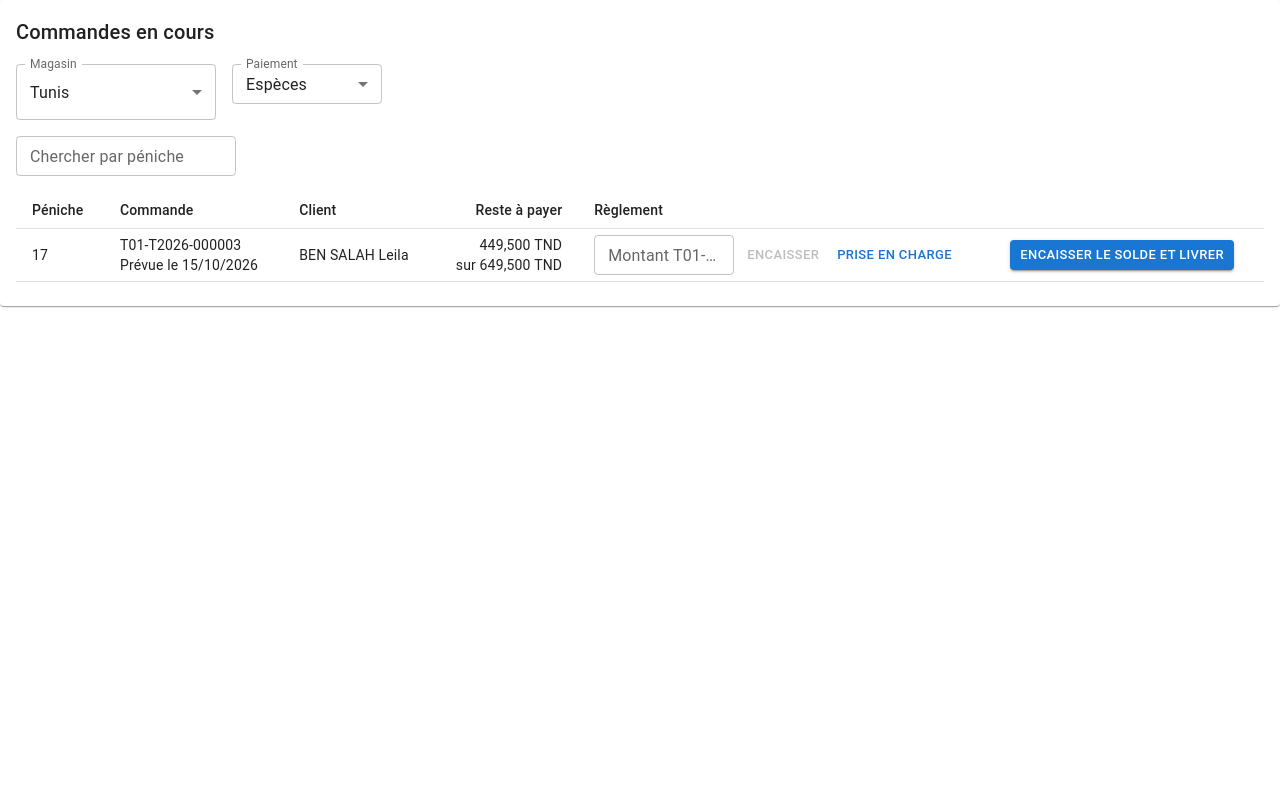
Test: saisit la part prise en charge par la CNAM sur une commande
Click the button "Prise en charge".
click(894, 255)  # box [832, 235, 957, 275]
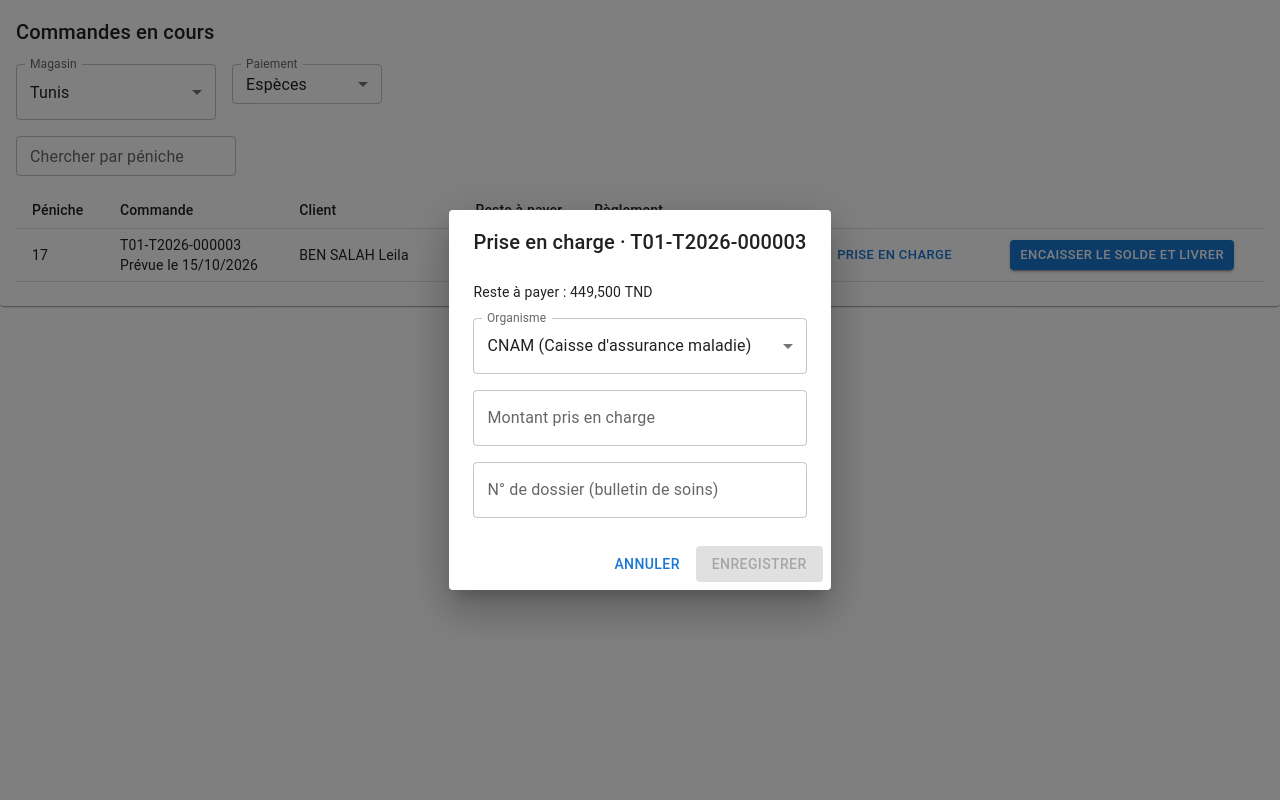
expect the dropdown "CNAM (Caisse d'assurance maladie)" is shown: met, box [487, 336, 751, 355]
Type "150" into the number field labelled "Montant pris en charge".
click(640, 418); type("150")  # box [473, 390, 806, 446]
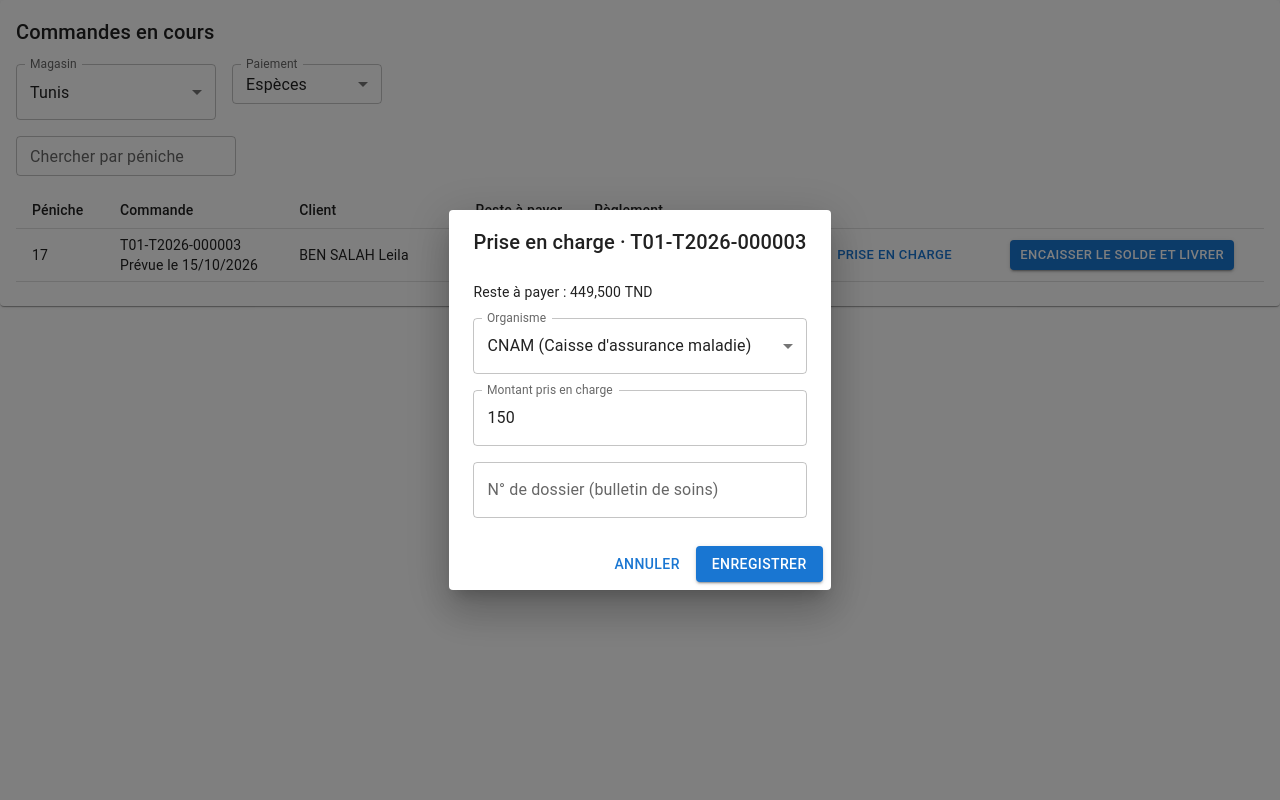
Type "BS-118" into the field labelled "N° de dossier (bulletin de soins)".
click(640, 490); type("BS-118")  # box [473, 462, 806, 518]
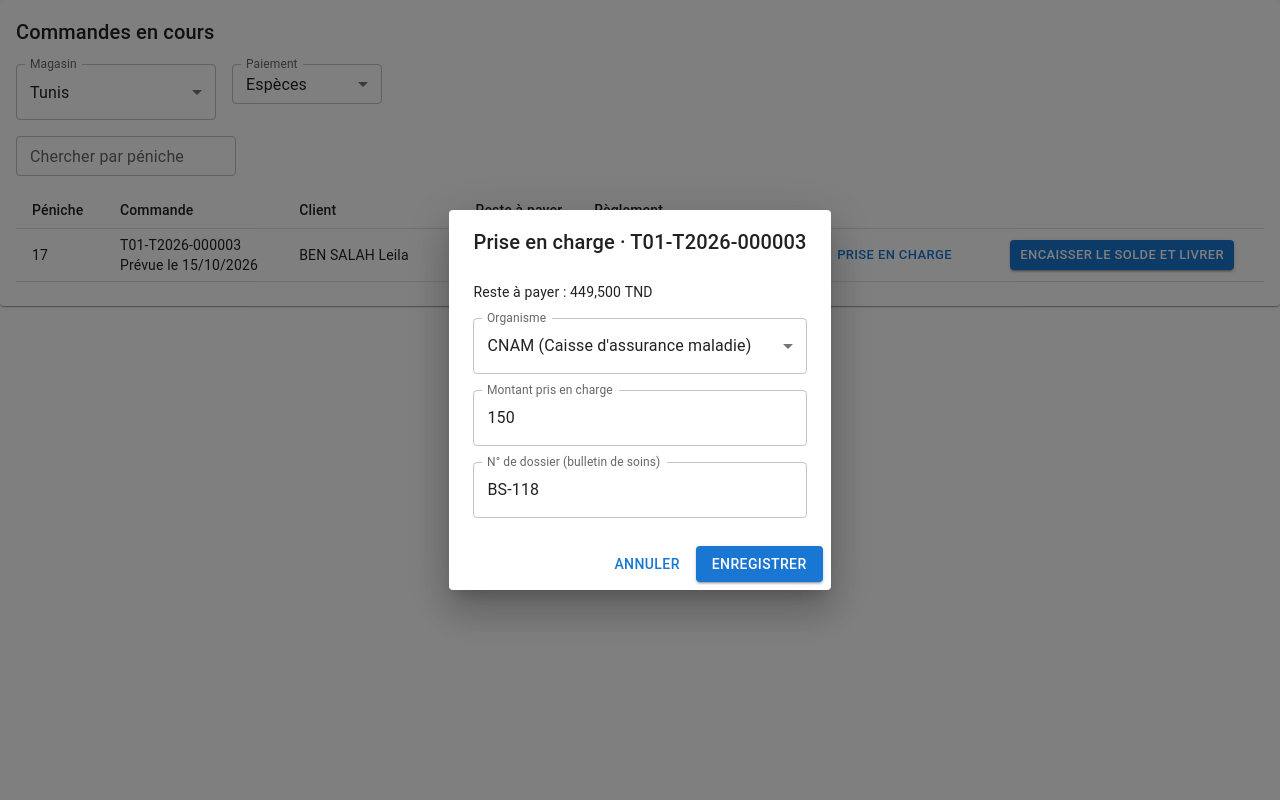
Click the button "Enregistrer".
click(759, 564)  # box [696, 546, 823, 582]
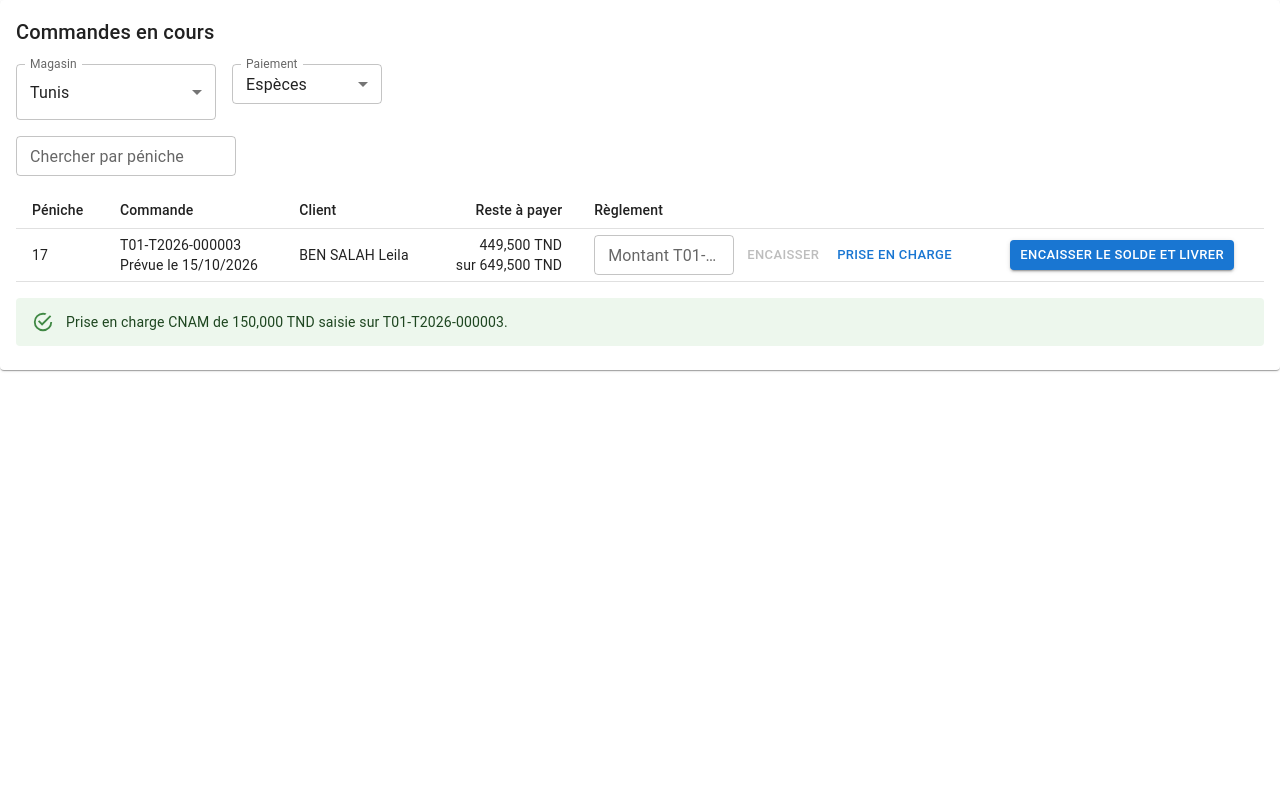
expect the text "Prise en charge CNAM de 150,000" is shown: met, box [66, 314, 508, 330]
